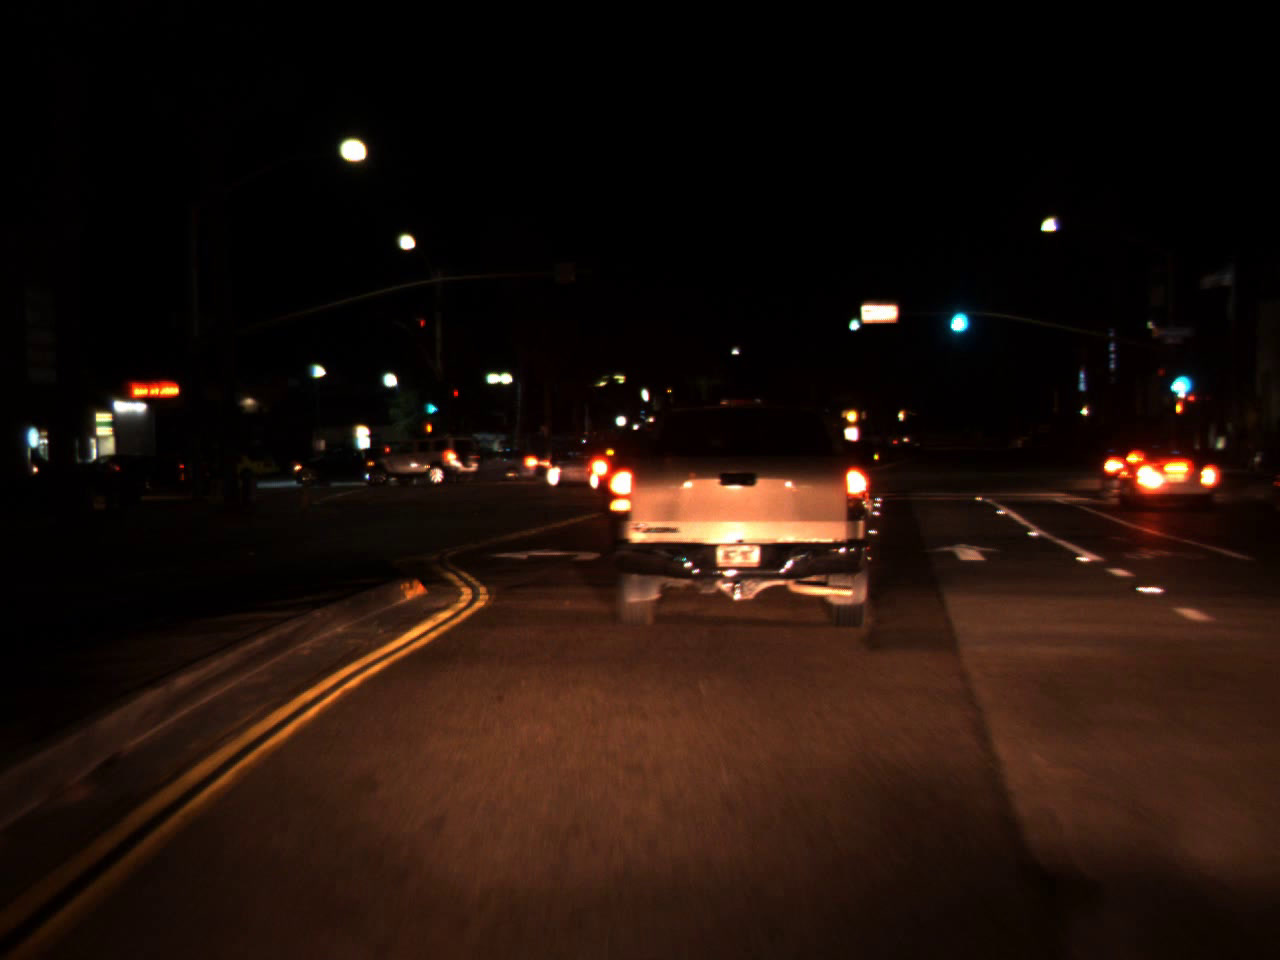go: (1161, 350, 1195, 401), (942, 287, 972, 341), (420, 385, 441, 421), (844, 305, 862, 332)
